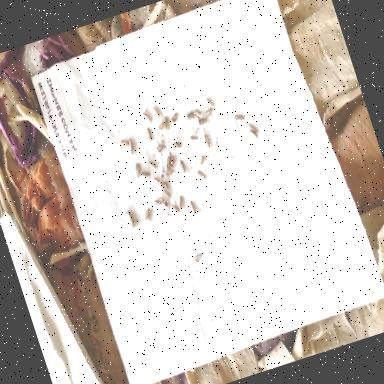pbw: (140, 107, 153, 126), (152, 174, 166, 191), (124, 206, 136, 225), (160, 114, 172, 132), (158, 192, 170, 210), (184, 109, 199, 123), (146, 156, 159, 172), (151, 104, 162, 122), (231, 110, 245, 124), (128, 216, 142, 230), (154, 142, 168, 156), (168, 110, 182, 124), (138, 166, 152, 180), (195, 166, 207, 182), (125, 138, 136, 155), (167, 202, 180, 216), (144, 126, 154, 144), (159, 185, 171, 200), (187, 198, 197, 216), (163, 155, 174, 170), (197, 115, 210, 127), (203, 107, 216, 119), (141, 207, 153, 220), (246, 121, 257, 135), (247, 127, 258, 141), (202, 131, 211, 148), (133, 163, 143, 178), (176, 194, 186, 209), (204, 95, 214, 110), (118, 137, 130, 149), (160, 173, 169, 189), (188, 132, 200, 144), (170, 139, 182, 151), (152, 196, 164, 207), (192, 107, 202, 120), (178, 160, 187, 174), (168, 154, 177, 168), (156, 120, 166, 132), (197, 153, 206, 165), (194, 252, 204, 260), (164, 168, 174, 176), (191, 256, 200, 264)
